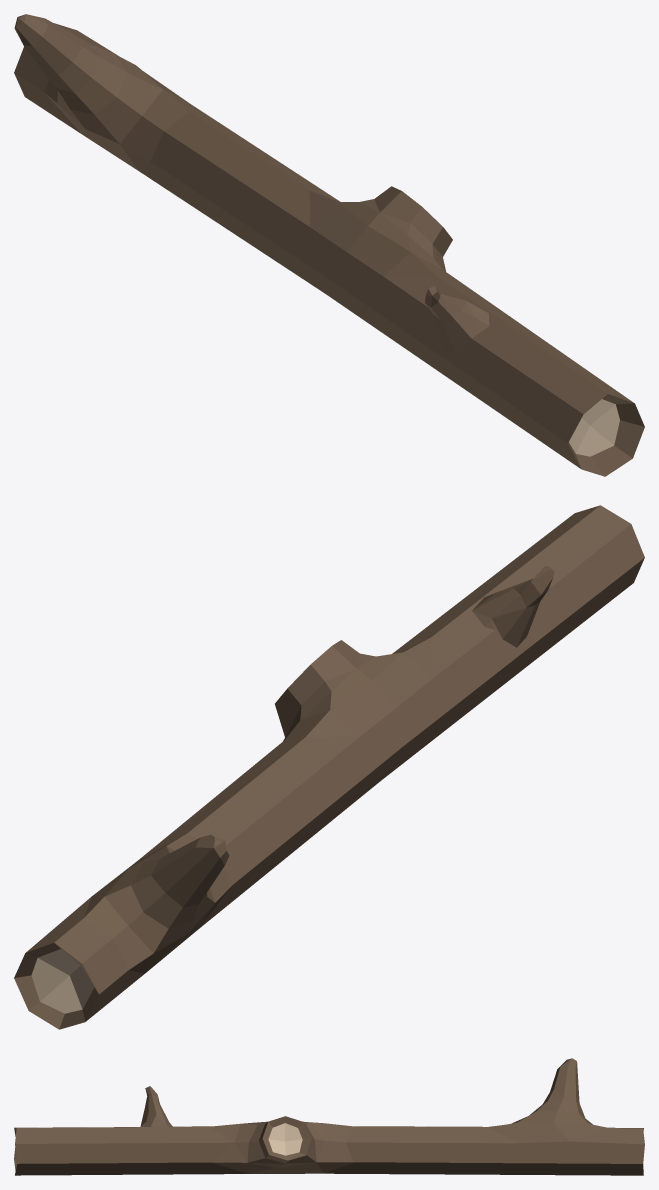
Rendered from trunk11.fbx.
3 renders of one model, top to bottom at view 1: azimuth 30°, elevation 25°; view 2: azimuth 150°, elevation 25°; view 3: azimuth 270°, elevation 25°, orthographic. The views are drawn at different scales.
Visible parts, largest first — view 1: trunk11; view 2: trunk11; view 3: trunk11.
Part boxes in pixels (x1,y1,x2,y2): trunk11: [14, 14, 644, 476]; trunk11: [14, 505, 644, 1029]; trunk11: [14, 1058, 644, 1175].
Size of the model in its own units: 50.24 by 40.43 by 251.
